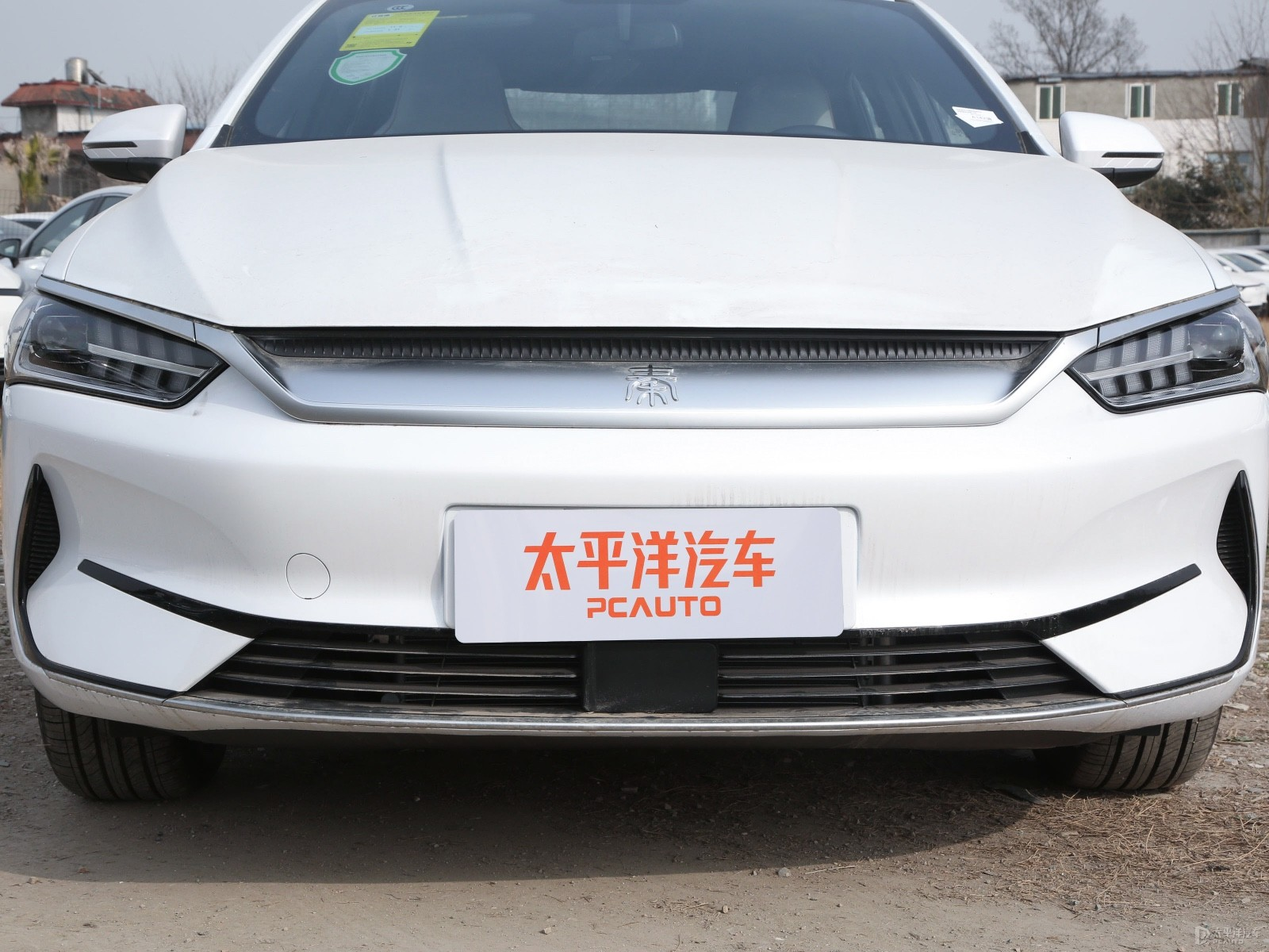BYD Qin: (627, 365, 678, 406)
